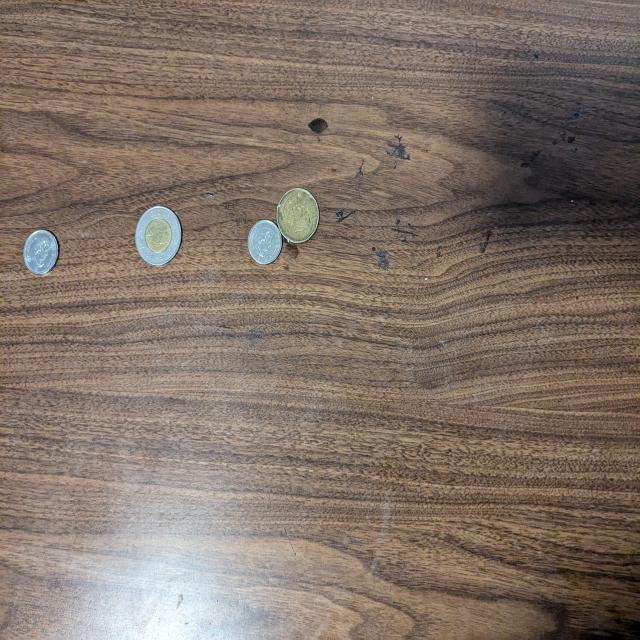loonie: (277, 188, 320, 242)
nickel: (23, 230, 59, 275), (248, 219, 282, 265)
toonie: (135, 205, 183, 265)
